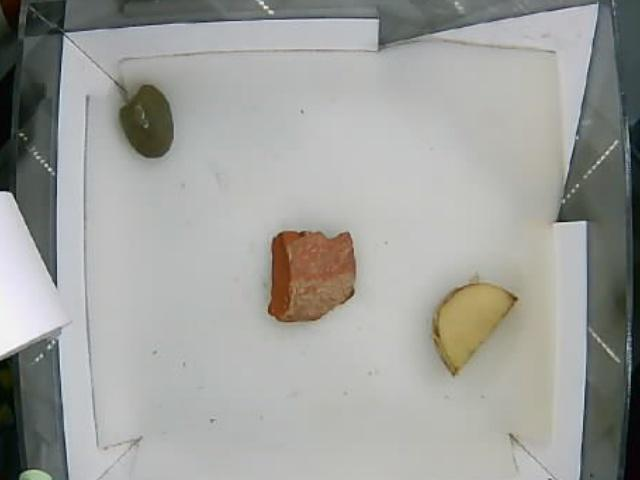Brisk: (269, 229, 356, 327)
Pebble: (117, 84, 178, 160)
Potato: (426, 282, 520, 379)
